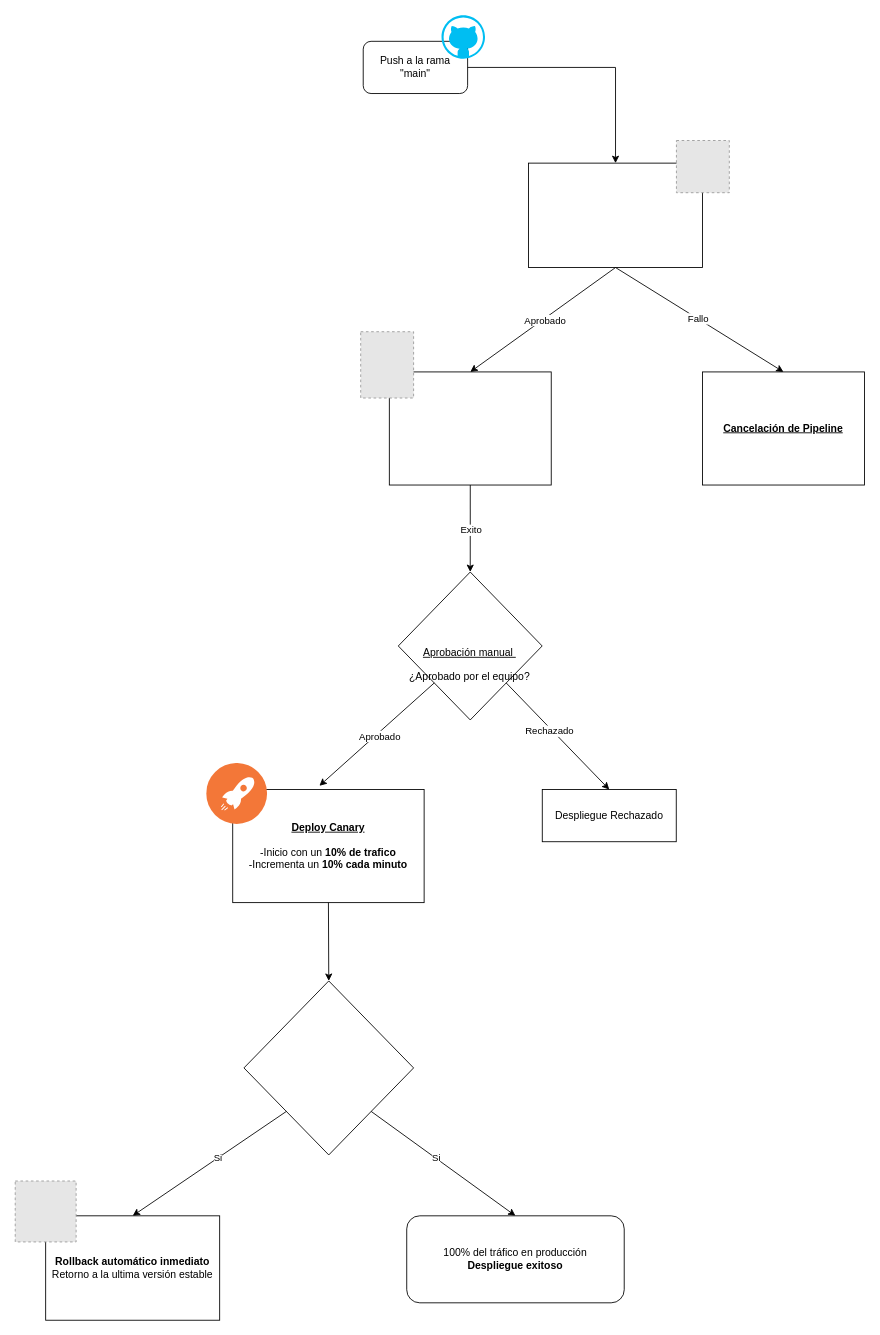
This 880x1335 diagram has some shape labels left out. Grey dashed boxes stand in for pictures. Here are the shapes that lost their labels. From the top down, the centre of each, then its label:
the point at 615,215: Builds y calidad -Test unitarios con pytest - Scaneo de seguirdad
the point at 469,428: Deploy and Staging -Despliegue con AWS Sam - 5 Test de integración
the point at 328,1067: Monitoreo CloudWatch ¿Error Rate < 3%?
